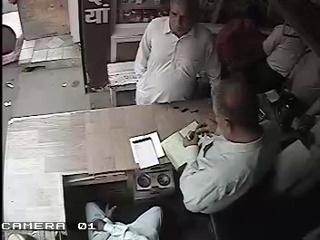Normal: (178, 76, 266, 216), (134, 0, 222, 106)
